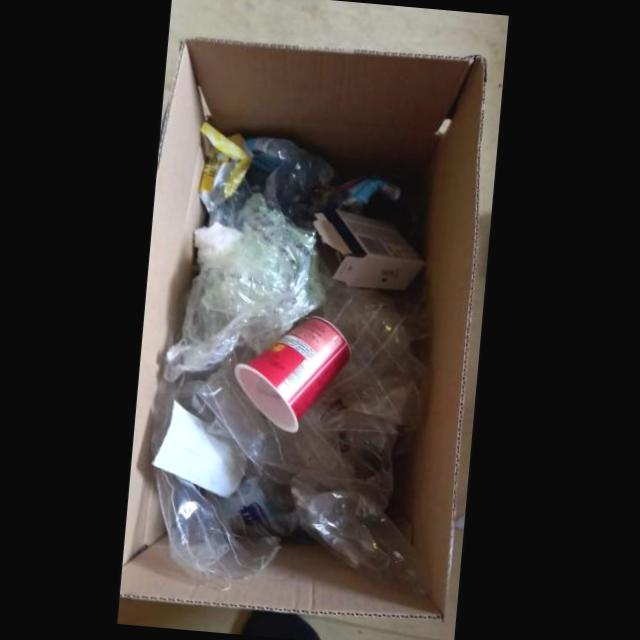carton: (312, 208, 425, 291)
chai_nhua: (245, 136, 334, 217)
giay: (150, 400, 246, 497)
tui_ni_long: (290, 487, 420, 581)
